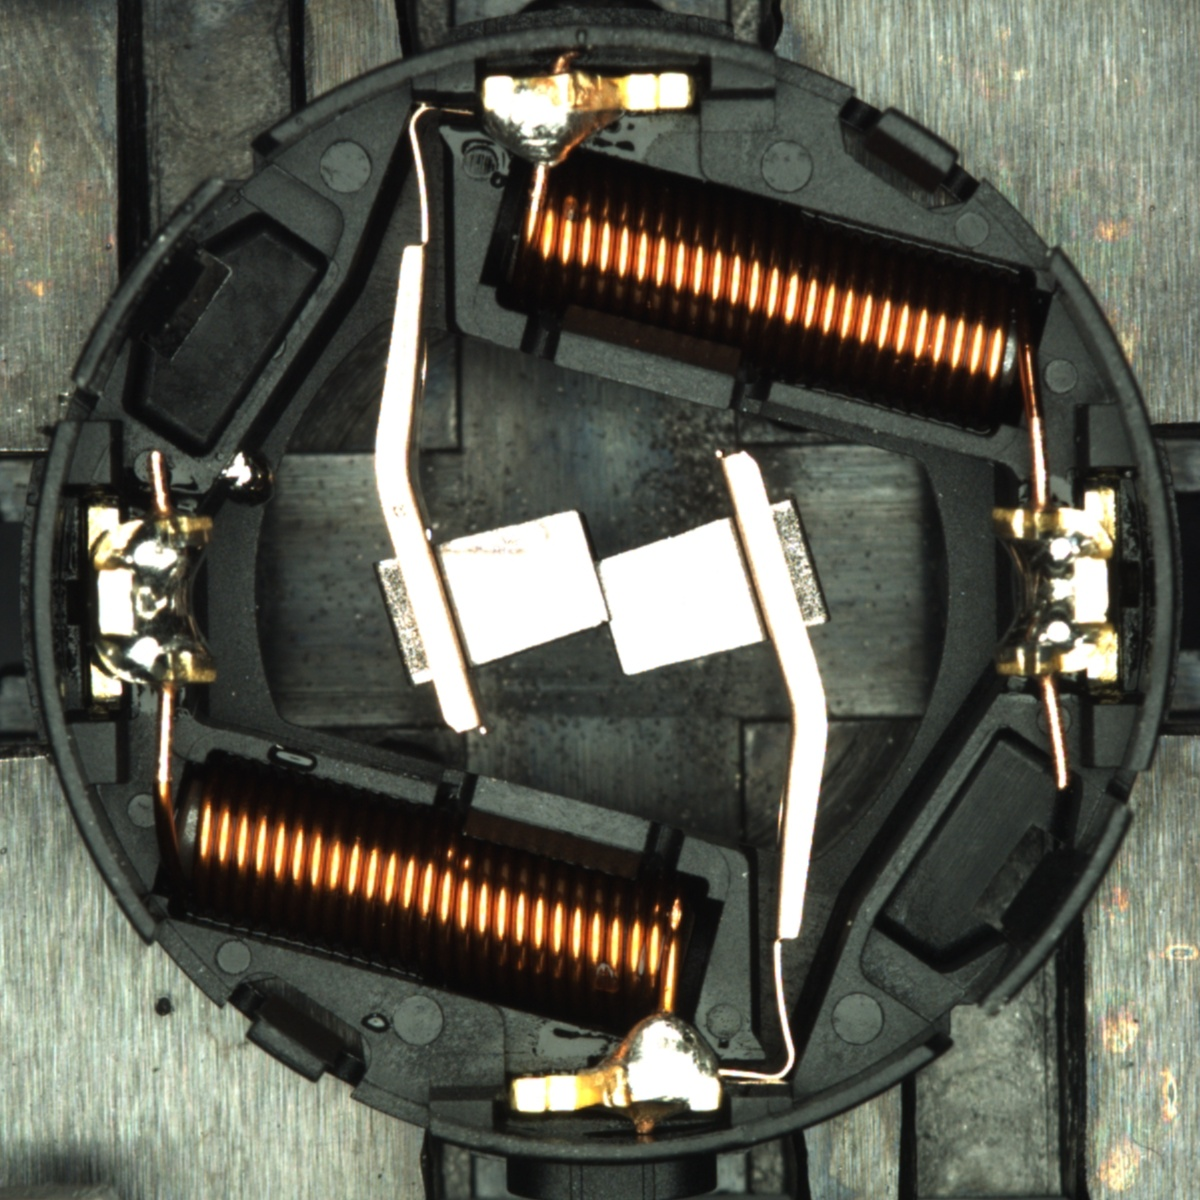1: (258, 55, 487, 279), (716, 953, 945, 1177)
2: (716, 55, 945, 279), (258, 953, 487, 1177)
3: (945, 728, 1175, 953)
4: (258, 279, 487, 504), (716, 728, 945, 953)
5: (487, 167, 716, 392), (487, 840, 716, 1065)
6: (716, 279, 945, 504), (258, 728, 487, 953)
7: (945, 279, 1175, 504), (28, 728, 258, 953)
chau_dien: (81, 500, 221, 701), (984, 488, 1124, 687)
hat_chi: (219, 451, 275, 507)
tay_choi: (510, 1011, 724, 1115), (480, 71, 696, 173)
thanh_de: (59, 166, 246, 404), (956, 789, 1141, 1029)
